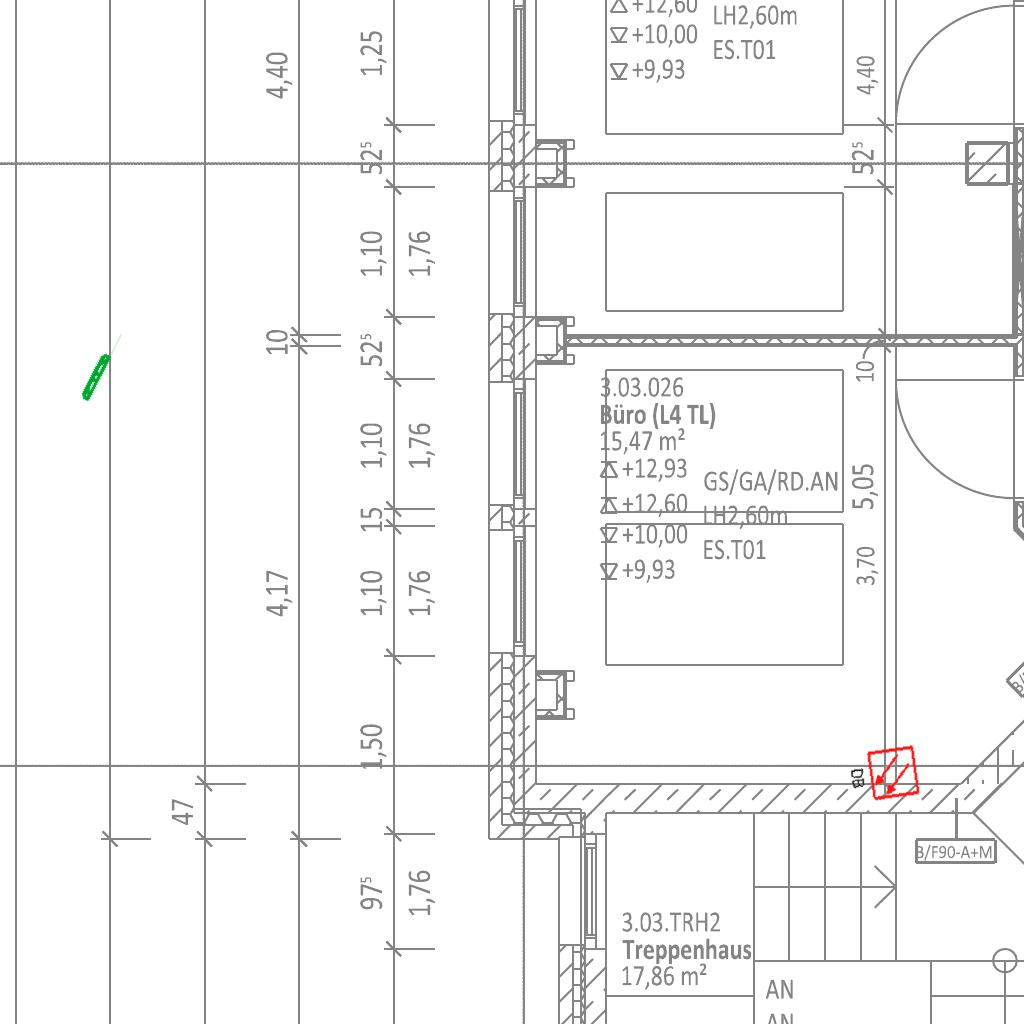DB_Melder_in_Doppelboden_mit_Revisionsoeffnung_mind_40_x_40_cm: (842, 741, 925, 809)
Sicherheitsleuchte_Wandeinbau: (77, 327, 125, 404)
